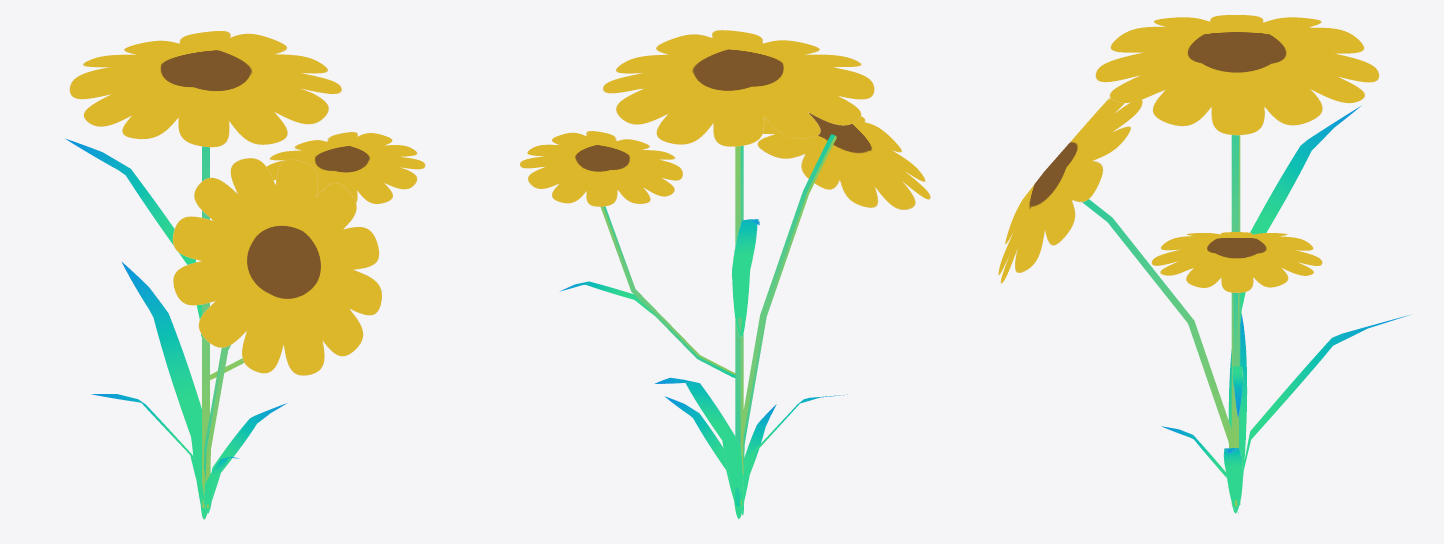
The model's file is Flowers_n02_01.fbx.
3 renders of one model, left to right at view 1: azimuth 30°, elevation 25°; view 2: azimuth 150°, elevation 25°; view 3: azimuth 270°, elevation 25°, orthographic. The views are drawn at different scales.
Visible parts, largest first — view 1: polySurface60; view 2: polySurface60; view 3: polySurface60.
Boxes of the visible parts, x1,y1,x2,y2 form: polySurface60: (65, 31, 425, 519); polySurface60: (520, 30, 930, 518); polySurface60: (998, 15, 1411, 513).
Bounding box in the file's own units: 38.94 × 52.02 × 42.25.
1 material, 1 textured.
